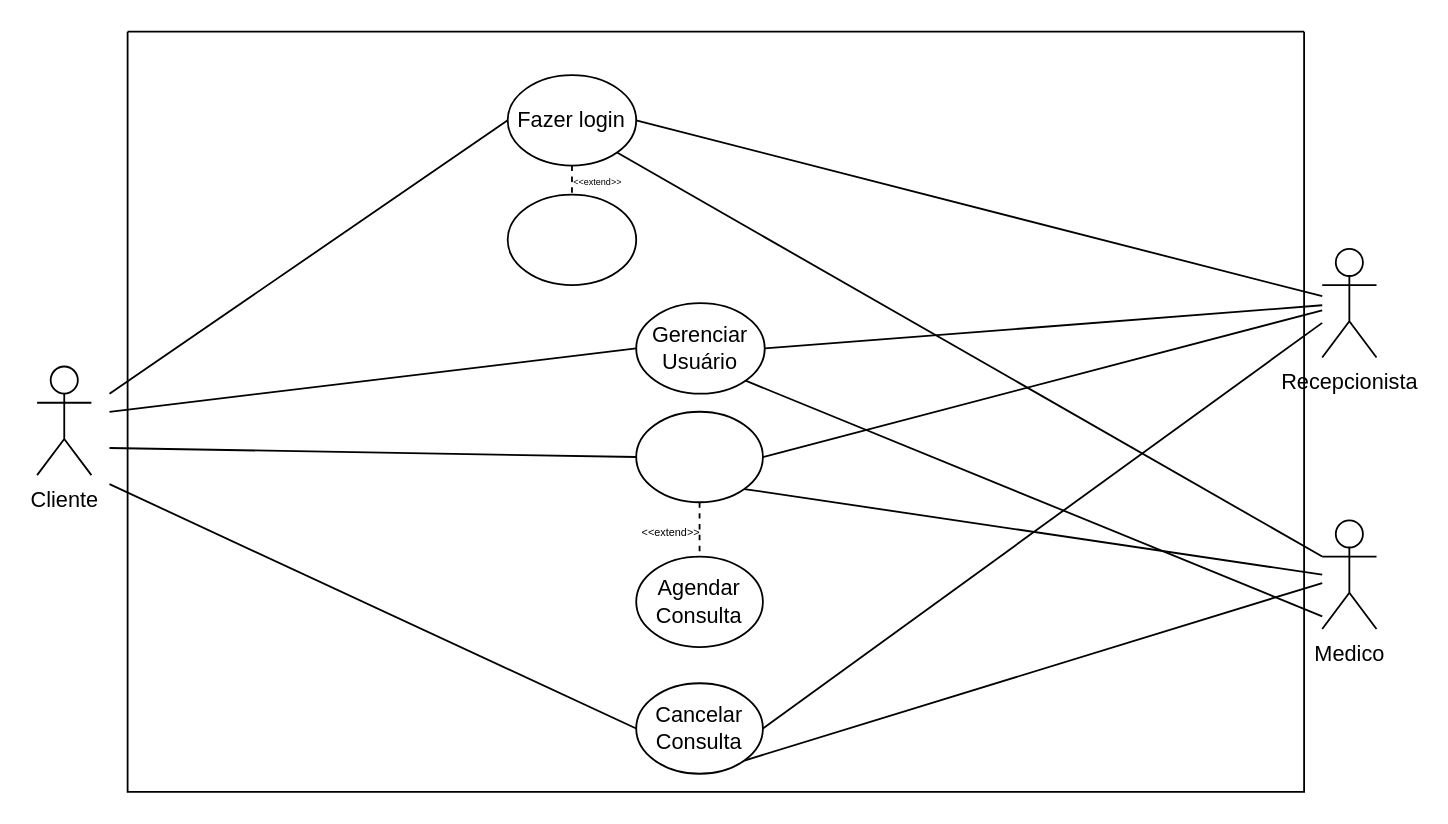
This 1448x824 diagram has some shape labels left out. Each missing label, with the box of its shape:
Cadastrar Usuário: (506, 193, 636, 285)
Verificar Agenda: (634, 410, 763, 502)
